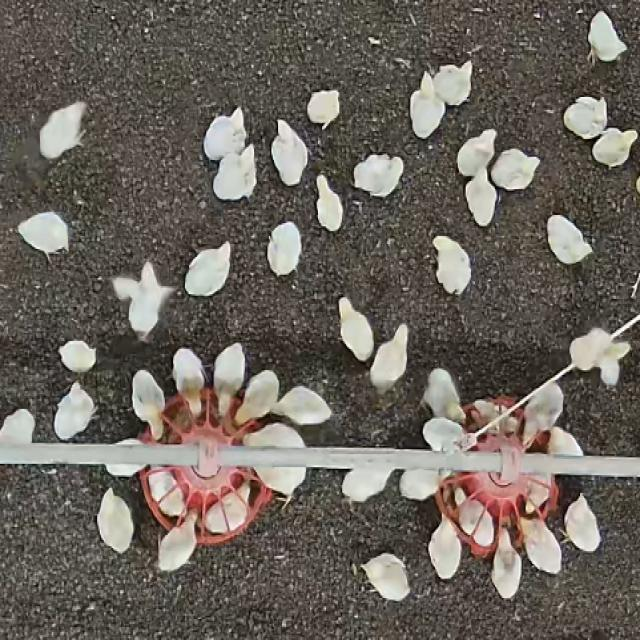broiler: (112, 262, 173, 338), (40, 102, 84, 158), (185, 241, 229, 296), (370, 323, 406, 389), (97, 488, 133, 553), (234, 370, 278, 423), (420, 368, 463, 422), (213, 144, 255, 199), (271, 120, 307, 184), (55, 381, 94, 440), (410, 71, 444, 137), (271, 385, 330, 423), (132, 370, 164, 440), (361, 553, 408, 600), (213, 343, 245, 412), (432, 236, 470, 294), (456, 488, 494, 546), (172, 347, 204, 415), (158, 512, 196, 569), (547, 215, 592, 263), (17, 212, 68, 254), (354, 154, 403, 197), (564, 493, 600, 551), (428, 514, 460, 579), (204, 107, 243, 160), (491, 527, 520, 598), (524, 381, 563, 433), (341, 297, 373, 360), (205, 485, 246, 532), (523, 519, 560, 571), (491, 149, 539, 189), (588, 11, 625, 61), (267, 221, 301, 275), (342, 465, 393, 501), (456, 129, 494, 176), (466, 168, 496, 225), (563, 97, 605, 137), (432, 61, 470, 105), (592, 128, 636, 166), (148, 469, 185, 514), (255, 467, 305, 496), (243, 422, 303, 446), (317, 175, 342, 229), (423, 417, 463, 449), (399, 469, 440, 499), (59, 339, 96, 372), (0, 409, 33, 441), (307, 91, 337, 126), (547, 427, 581, 454)
pipe: (218, 446, 503, 470), (0, 443, 200, 464), (522, 454, 639, 475)
rice: (434, 472, 559, 558), (158, 375, 262, 444), (198, 469, 271, 543), (472, 407, 548, 469), (140, 467, 214, 528), (463, 396, 514, 428)
